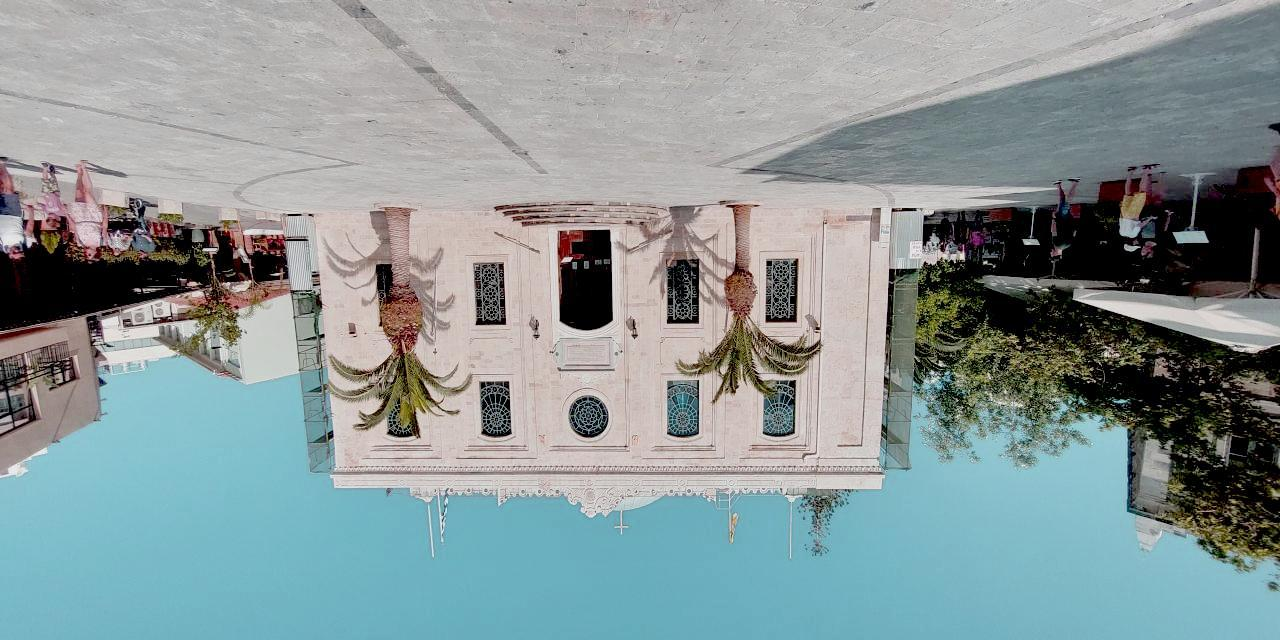Agios Titos: (334, 202, 895, 512)
